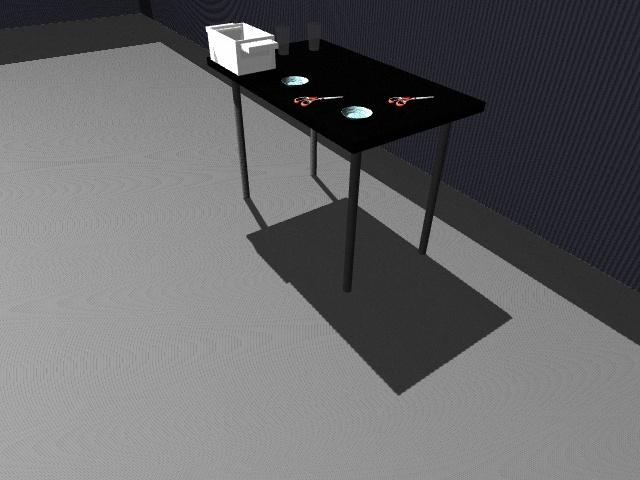cup: (275, 24, 291, 55), (307, 21, 321, 51)
plate: (341, 105, 373, 119), (281, 75, 310, 87)
scissors: (293, 95, 345, 108), (389, 95, 433, 106)
